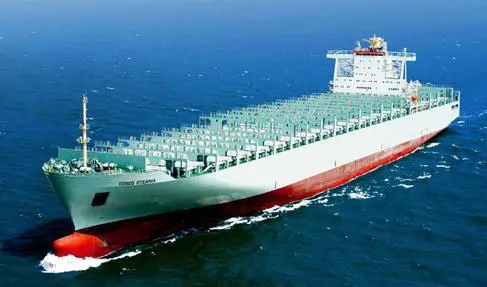Cargoship: (38, 35, 462, 266)
